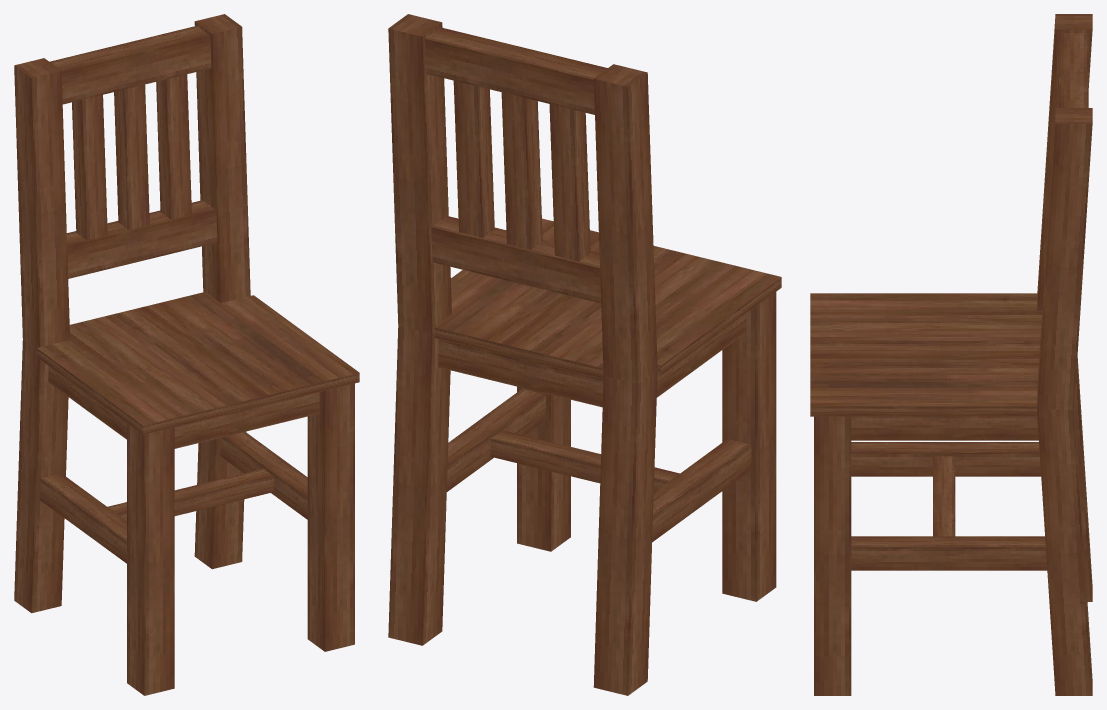
File: chair.glb
The picture shows the model from 3 angles, left to right: view 1: azimuth 30°, elevation 25°; view 2: azimuth 150°, elevation 25°; view 3: azimuth 270°, elevation 25°; orthographic projection. The views are drawn at different scales.
Visible parts, largest first — view 1: Chair; view 2: Chair; view 3: Chair.
Part boxes in pixels (x1,y1,x2,y2): Chair: [14, 14, 359, 695]; Chair: [388, 14, 781, 695]; Chair: [810, 14, 1092, 695].
Bounding box in the file's own units: 0.36 × 0.85 × 0.38.
Materials: 1 (1 with a texture image).
